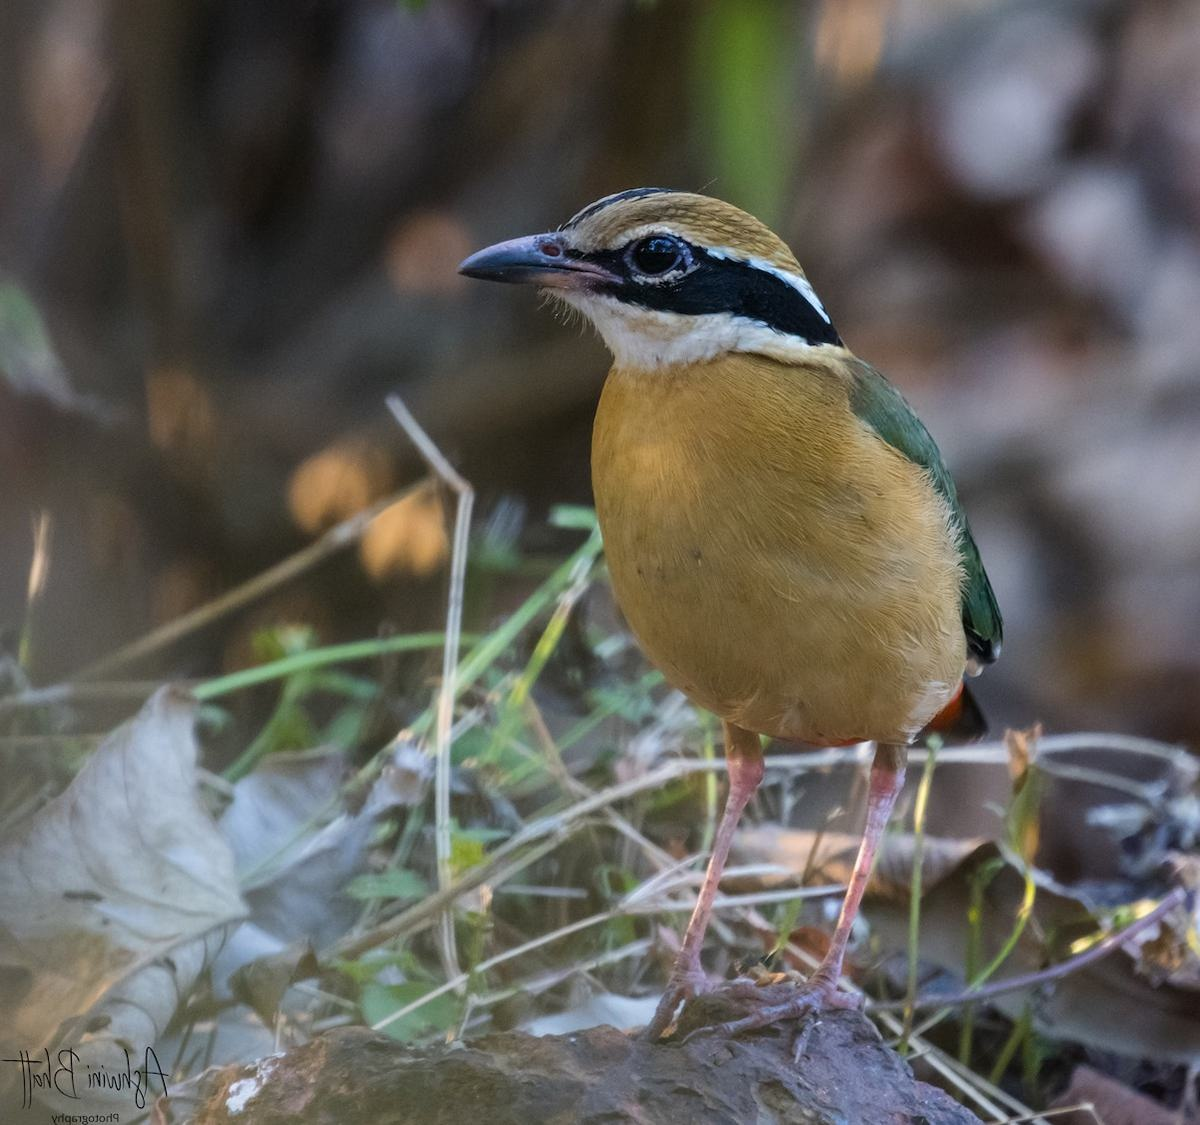pitta: (466, 177, 1007, 850)
